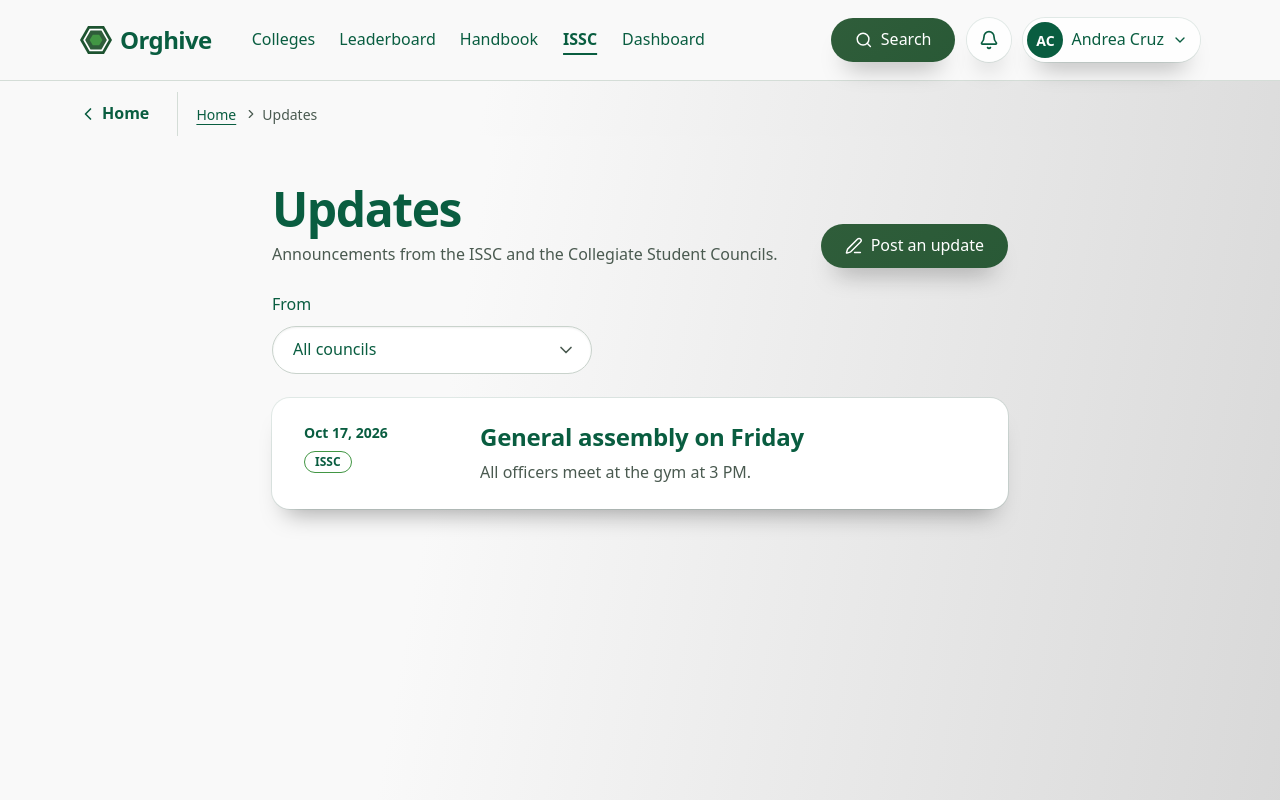
Test: /updates › keeps the sheet open and says what is missing
Click the button "Post an update". click: click(915, 246)
box: left=821, top=224, right=1008, bottom=268
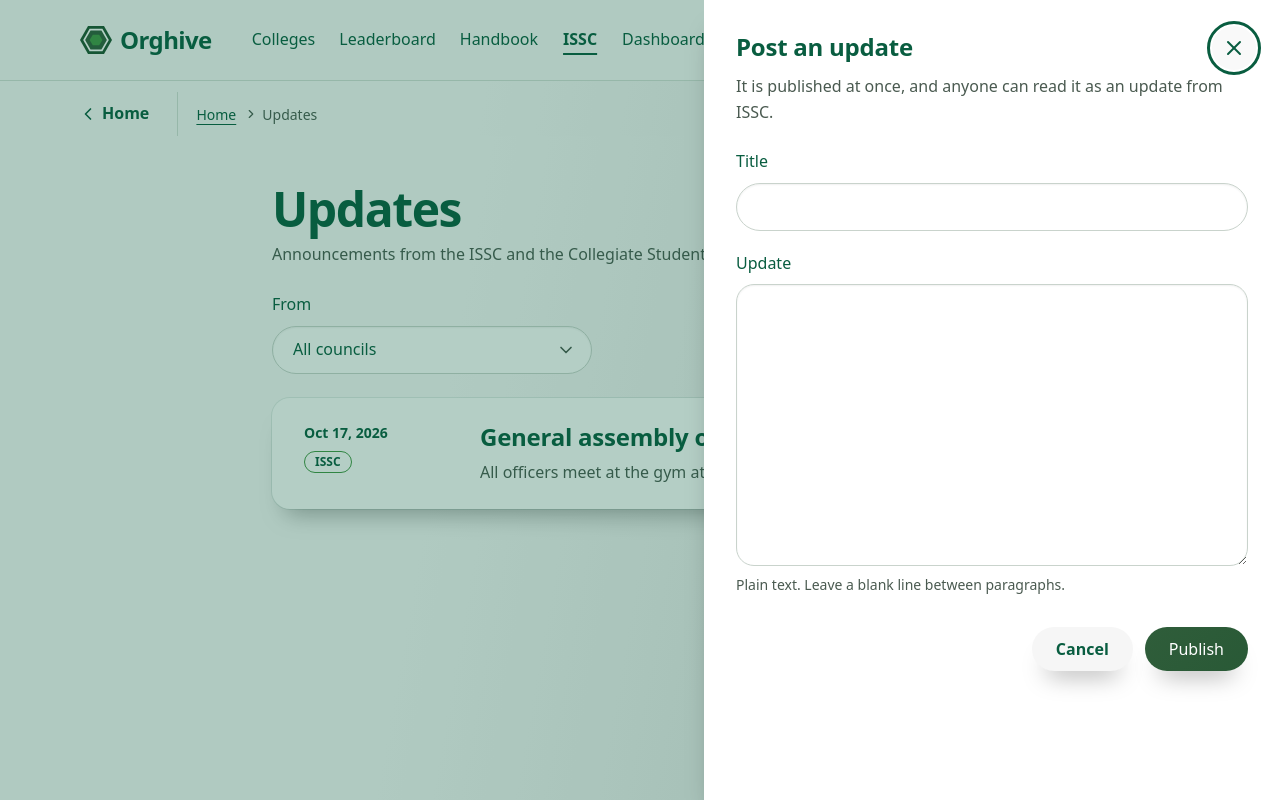
Click the button "Publish". click: click(1196, 649)
box: left=1145, top=627, right=1248, bottom=671
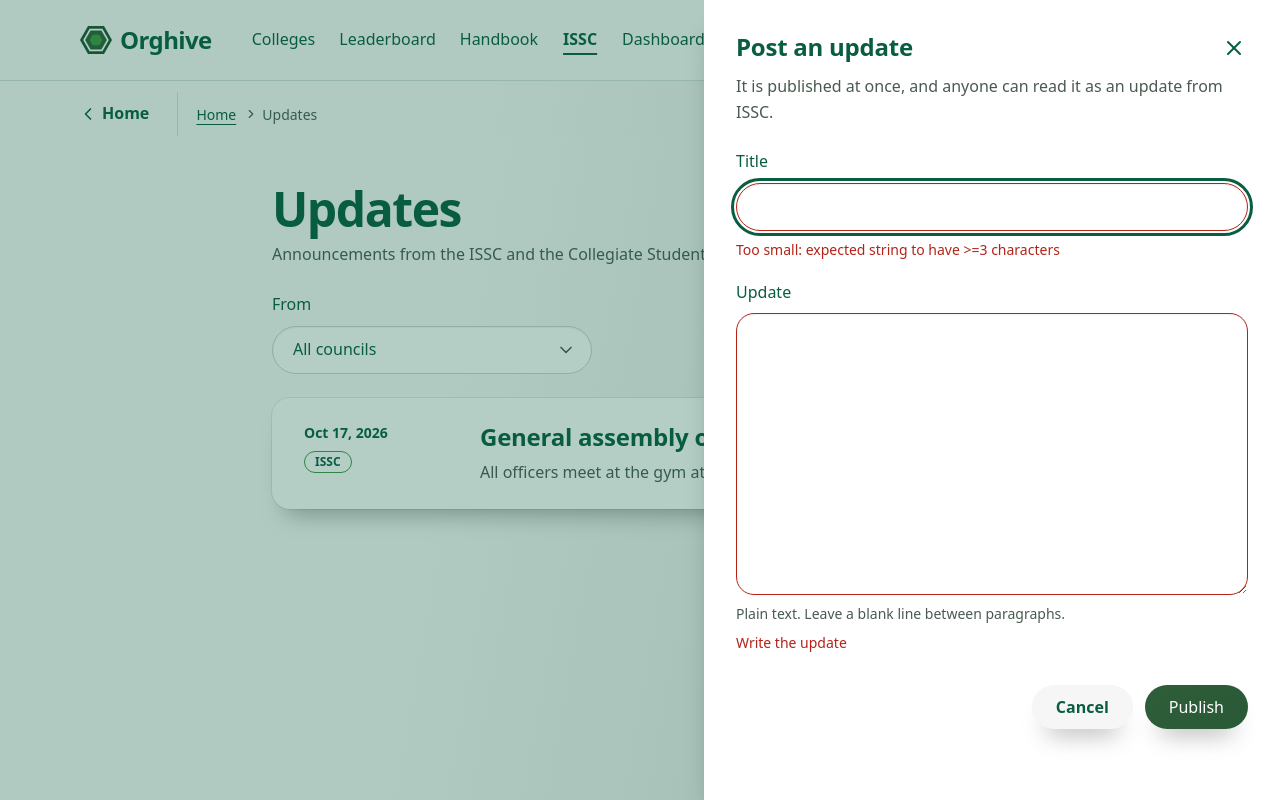
Check: the text "Write the update" is shown, box left=736, top=633, right=847, bottom=652
